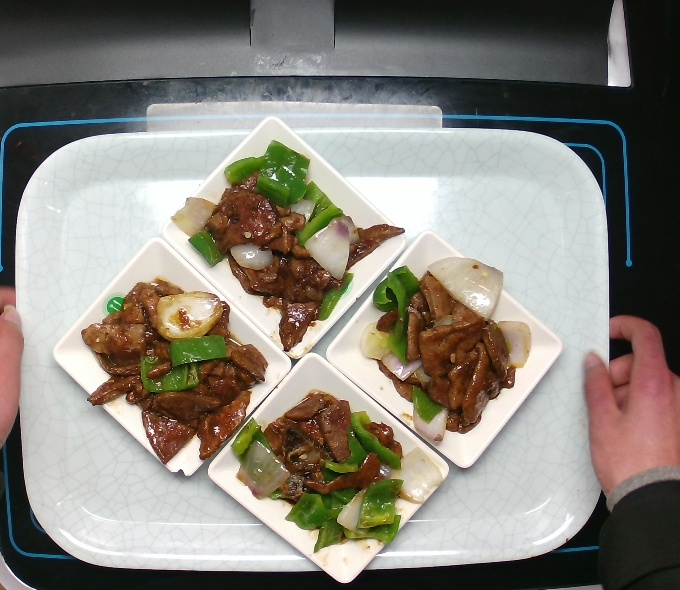wcq-ZhuGan: (167, 134, 407, 359), (73, 277, 272, 478), (361, 244, 546, 436), (236, 379, 420, 561)
